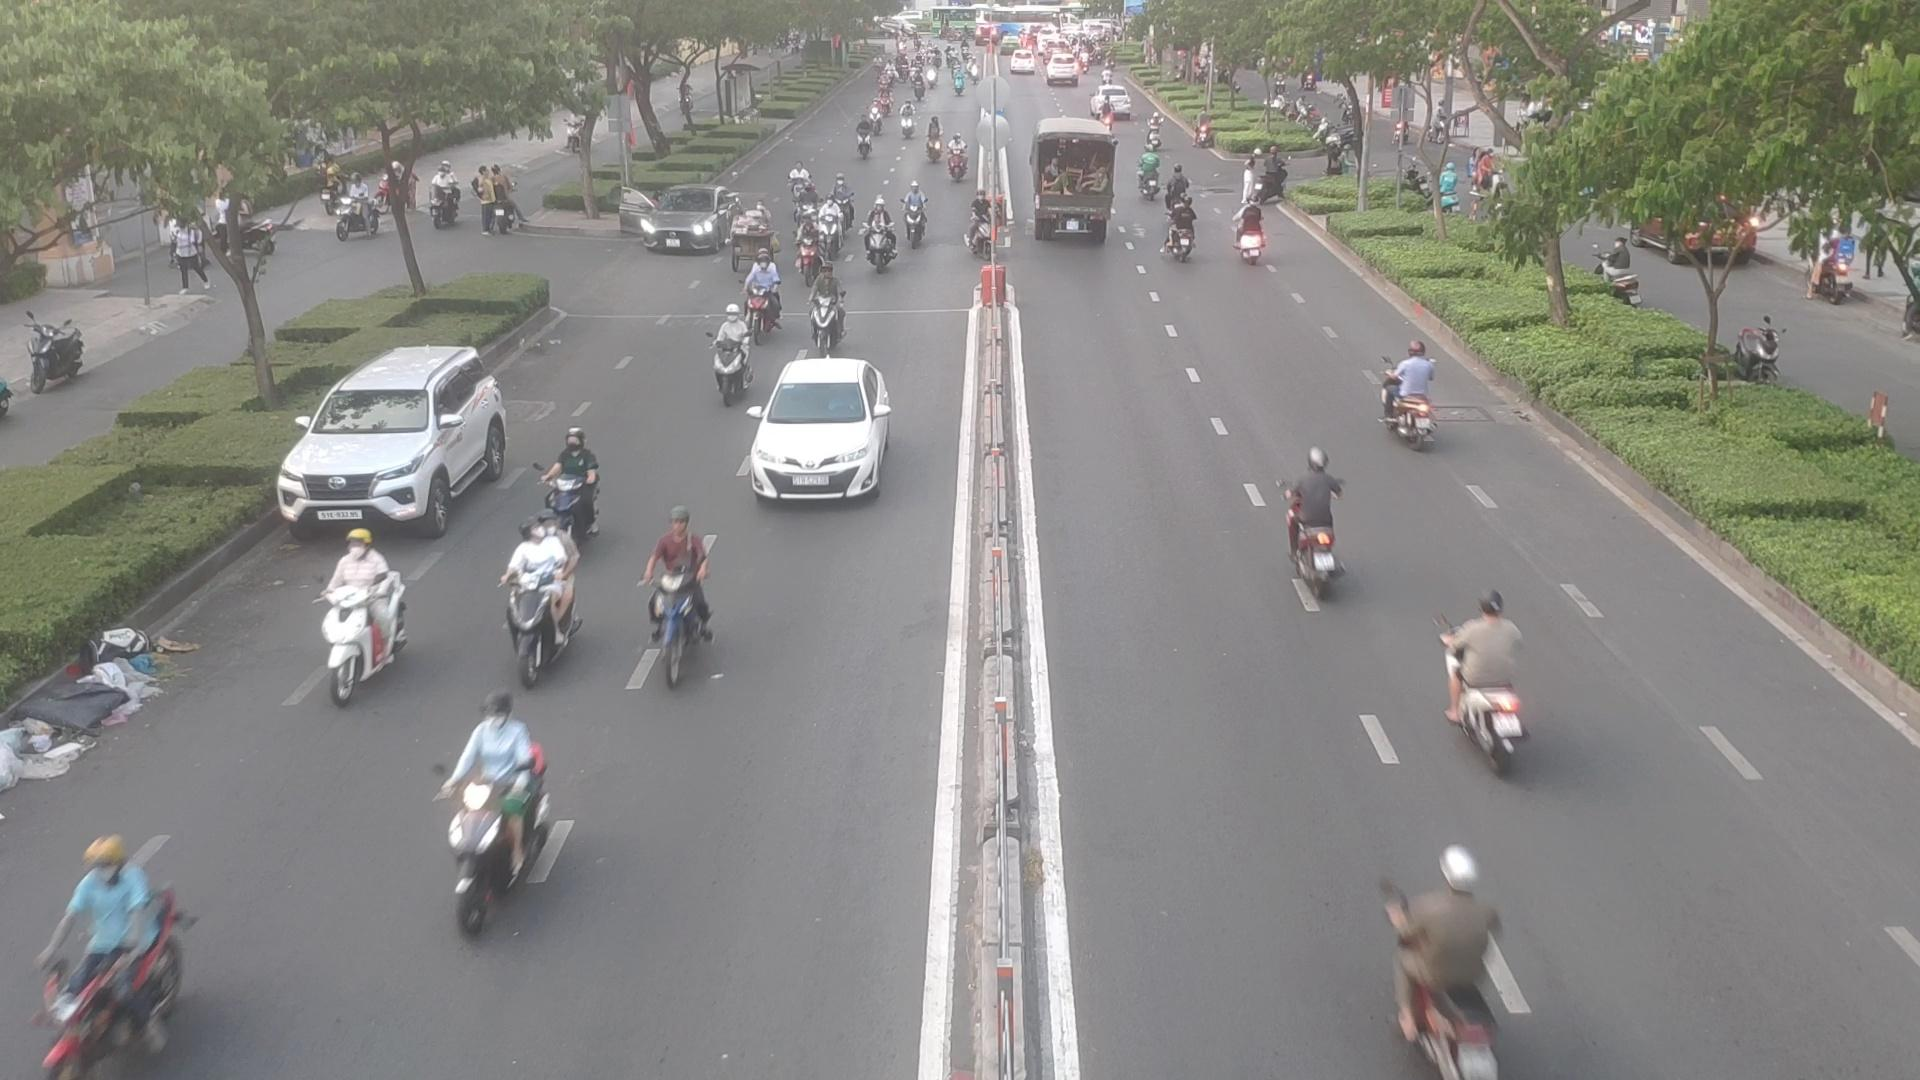car: (285, 343, 522, 535), (742, 363, 899, 502), (615, 191, 742, 258)
motorbike: (15, 835, 177, 1077), (430, 708, 560, 932), (1435, 591, 1547, 769), (314, 543, 422, 694), (508, 524, 592, 676), (633, 549, 721, 683), (1275, 464, 1352, 596), (1373, 342, 1448, 440), (534, 436, 607, 535), (704, 320, 760, 397), (807, 269, 853, 345), (858, 206, 898, 273), (1163, 200, 1201, 262), (738, 284, 781, 338), (1234, 202, 1270, 264), (905, 190, 935, 248), (918, 127, 944, 160)
